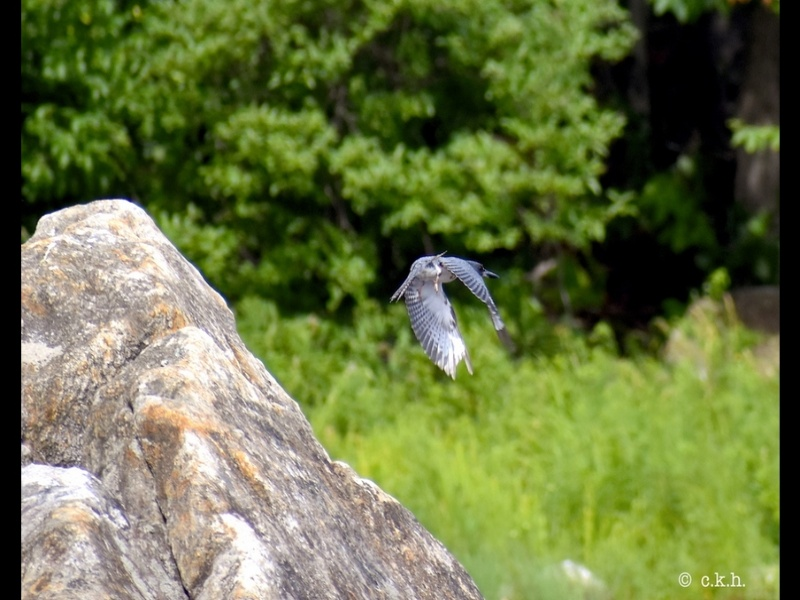kingfisher: (390, 247, 508, 378)
